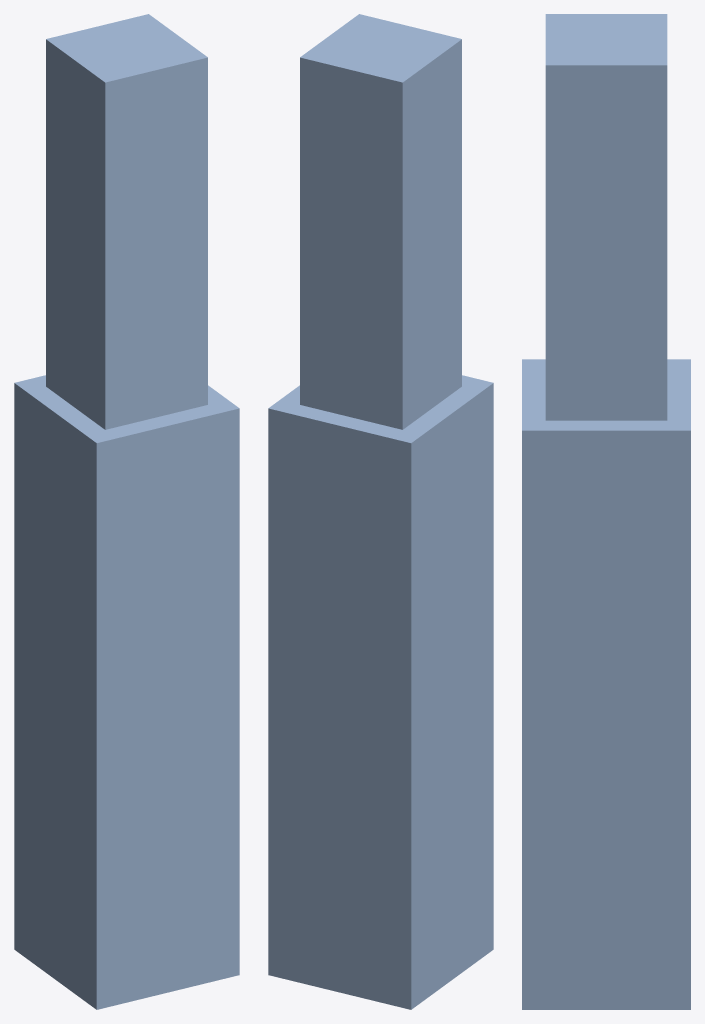
Rendered from sky_setback.glb.
The picture shows the model from 3 angles, left to right: view 1: azimuth 30°, elevation 25°; view 2: azimuth 150°, elevation 25°; view 3: azimuth 270°, elevation 25°; orthographic projection. The views are drawn at different scales.
Visible parts, largest first — view 1: sky_setback; view 2: sky_setback; view 3: sky_setback.
Part boxes in pixels (bbox=[...]): sky_setback: bbox=[14, 14, 239, 1009]; sky_setback: bbox=[268, 14, 493, 1009]; sky_setback: bbox=[522, 14, 690, 1009].
Bounding box in the file's own units: 0.72 × 4.4 × 0.72.
